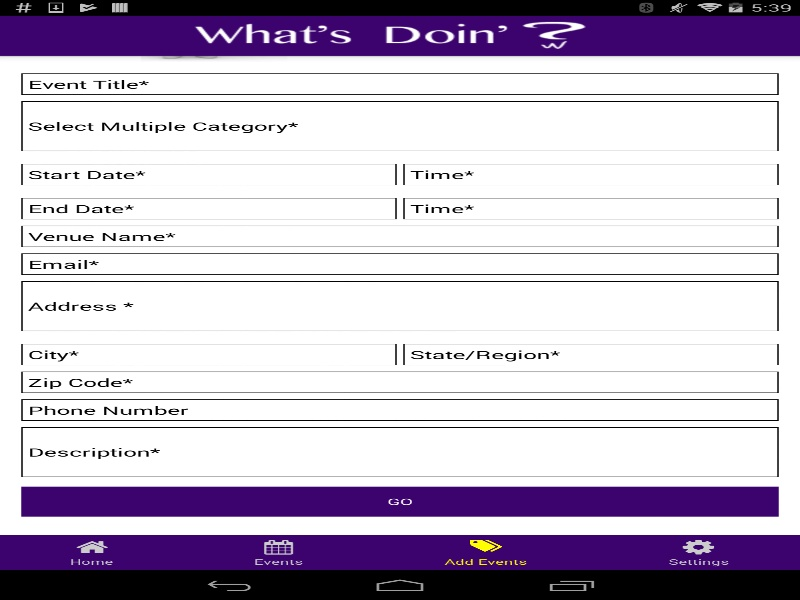Button: (21, 486, 778, 516)
Input: (21, 281, 778, 331), (21, 427, 778, 477), (21, 73, 778, 95), (21, 225, 778, 247), (21, 253, 778, 275), (21, 371, 778, 393), (21, 399, 778, 420), (21, 343, 396, 365), (403, 343, 778, 365)
